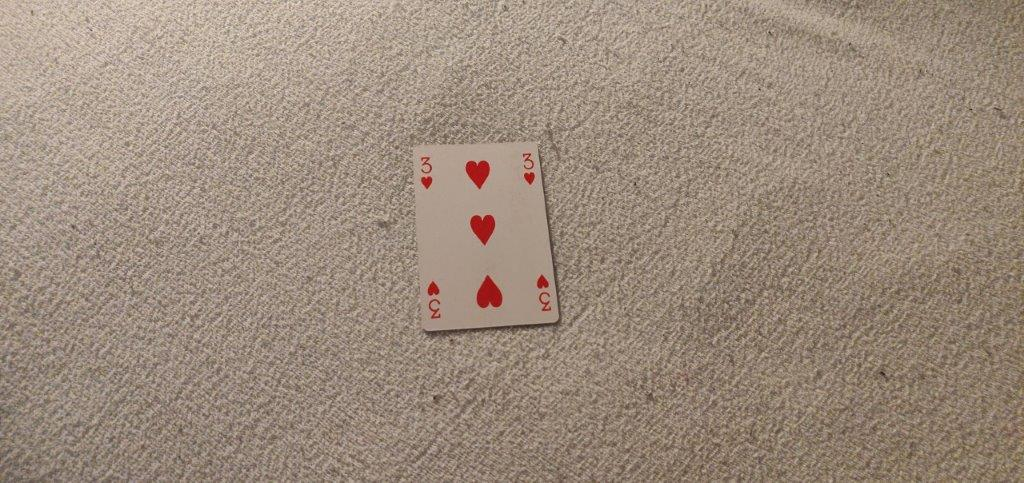3H: (416, 152, 437, 193), (519, 150, 540, 187)
